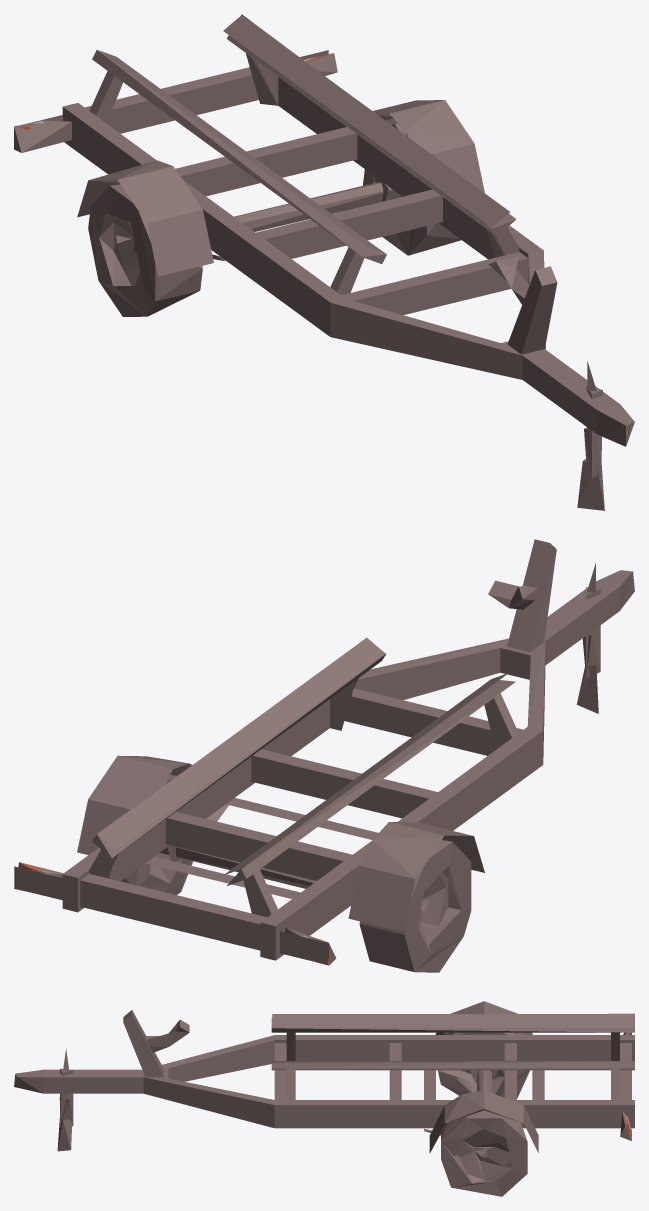
The model's file is bay-jetski-trailer.lod0.glb.
3 renders of one model, top to bottom at view 1: azimuth 30°, elevation 25°; view 2: azimuth 150°, elevation 25°; view 3: azimuth 270°, elevation 25°, orthographic. The views are drawn at different scales.
Visible parts, largest first — view 1: V1_JetSkiTrailer_1_Stand_1_VehiclesGeneric_0; view 2: V1_JetSkiTrailer_1_Stand_1_VehiclesGeneric_0; view 3: V1_JetSkiTrailer_1_Stand_1_VehiclesGeneric_0.
Part boxes in pixels (left/top/right/bottom): V1_JetSkiTrailer_1_Stand_1_VehiclesGeneric_0: left=14, top=14, right=634, bottom=510; V1_JetSkiTrailer_1_Stand_1_VehiclesGeneric_0: left=14, top=539, right=634, bottom=972; V1_JetSkiTrailer_1_Stand_1_VehiclesGeneric_0: left=14, top=1001, right=634, bottom=1196.
Size of the model in its own units: 1.68 by 0.9969 by 4.09.
